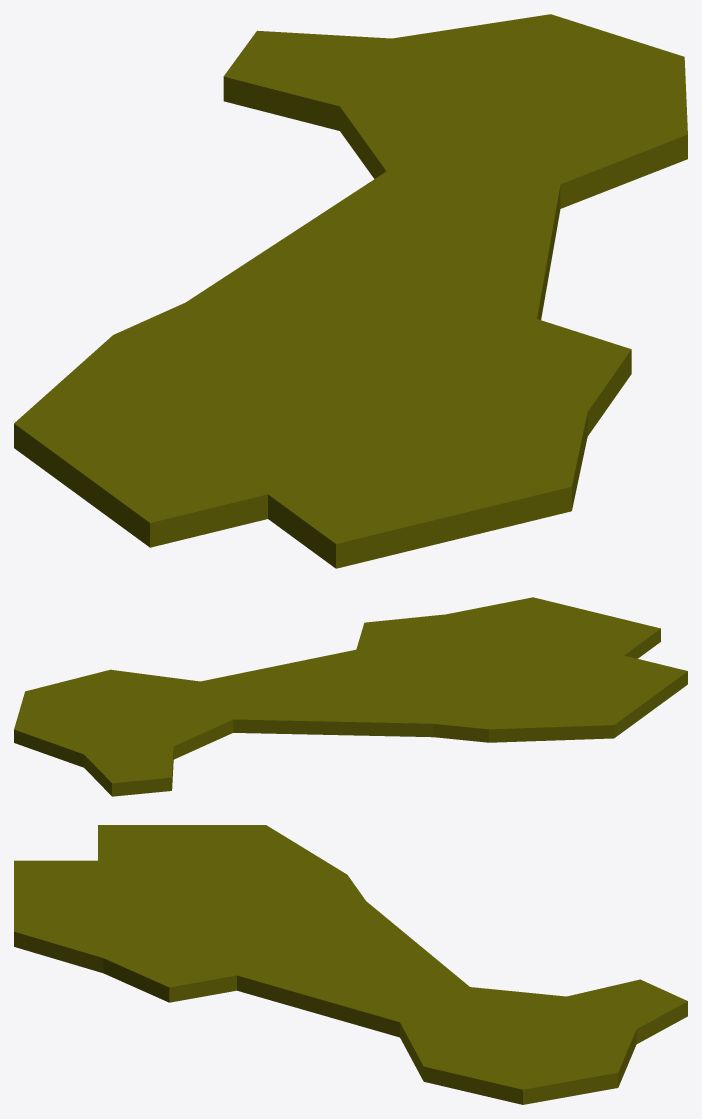
The model's file is x_0_boloto_22_1_rmstrd.fbx.
3 views of the same model, one above another, from view 1: azimuth 30°, elevation 25°; view 2: azimuth 150°, elevation 25°; view 3: azimuth 270°, elevation 25° (orthographic). The views are drawn at different scales.
Parts seen in each view (by area): view 1: x_0_boloto_22_1_rmstrd1; view 2: x_0_boloto_22_1_rmstrd1; view 3: x_0_boloto_22_1_rmstrd1.
Boxes of the visible parts, <box> form: x_0_boloto_22_1_rmstrd1: <box>14,14,687,568</box>; x_0_boloto_22_1_rmstrd1: <box>14,597,687,796</box>; x_0_boloto_22_1_rmstrd1: <box>14,825,687,1104</box>.
Bounding box in the file's own units: 7.45 × 0.2 × 8.02.
